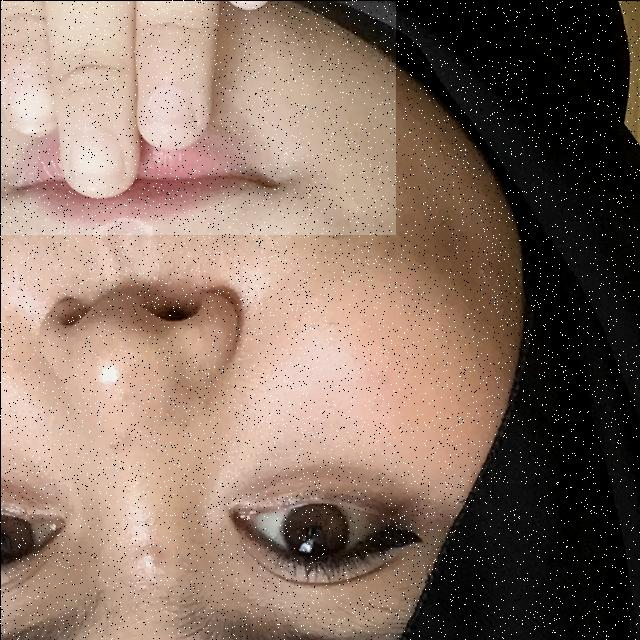ganteng: (0, 0, 395, 234)
